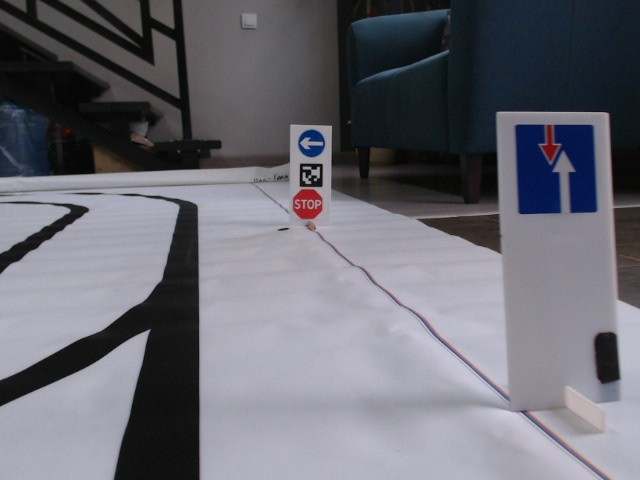Stop: (291, 188, 323, 220)
priority_movement: (514, 123, 599, 215)
